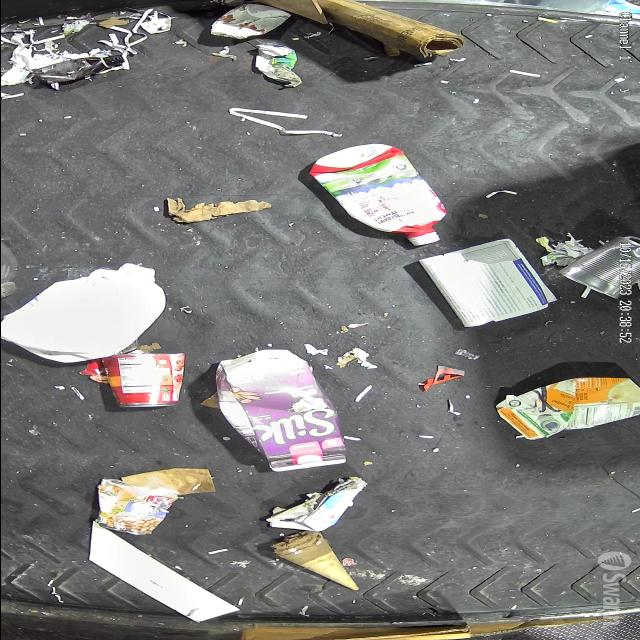can: (556, 236, 640, 304), (107, 348, 194, 411)
milk_jug: (1, 264, 174, 362)
